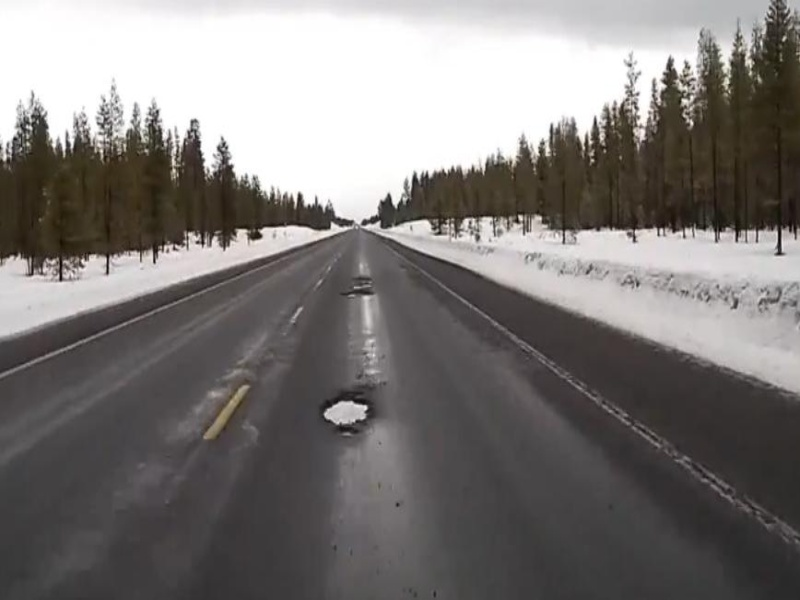pothole: (320, 388, 379, 429)
